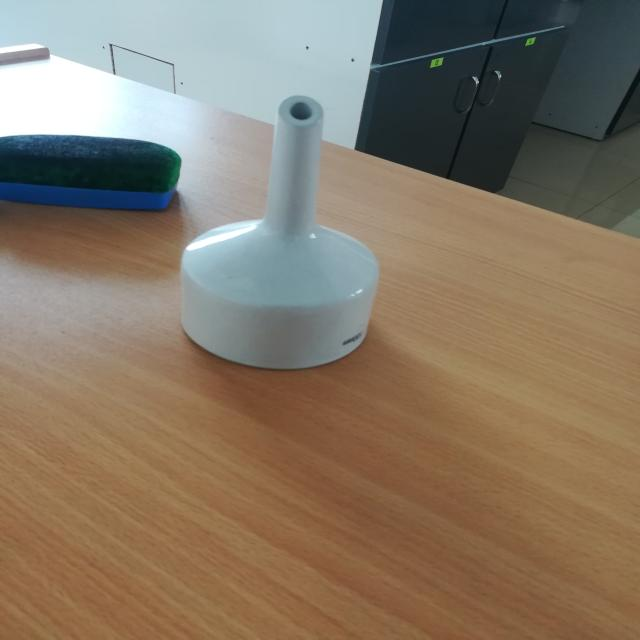Buchner_Funnel: (159, 73, 399, 403)
